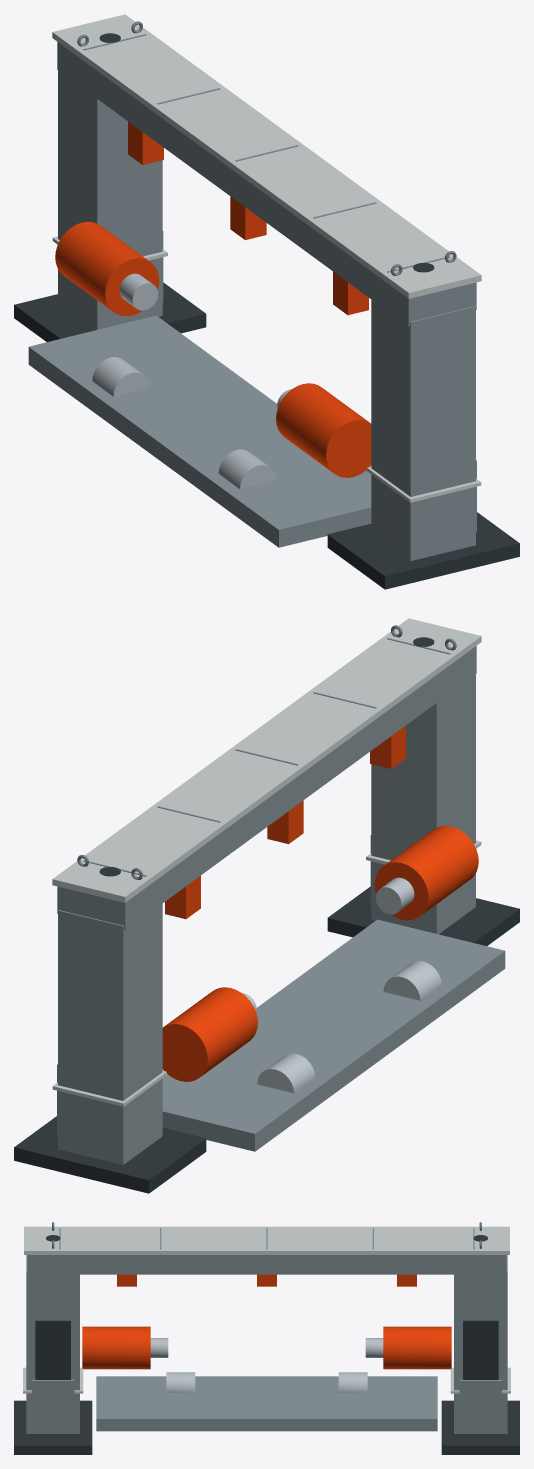
File: opening_frontage_portal.dae
The picture shows the model from 3 angles, top to bottom: view 1: azimuth 30°, elevation 25°; view 2: azimuth 150°, elevation 25°; view 3: azimuth 270°, elevation 25°; orthographic projection. The views are drawn at different scales.
Visible parts, largest first — view 1: opening_frontage_portal; view 2: opening_frontage_portal; view 3: opening_frontage_portal.
Part boxes in pixels (bbox=[...]): opening_frontage_portal: bbox=[14, 14, 519, 589]; opening_frontage_portal: bbox=[14, 618, 519, 1193]; opening_frontage_portal: bbox=[14, 1222, 519, 1454].
Bounding box in the file's own units: 1.27 × 4.52 × 1.98.
